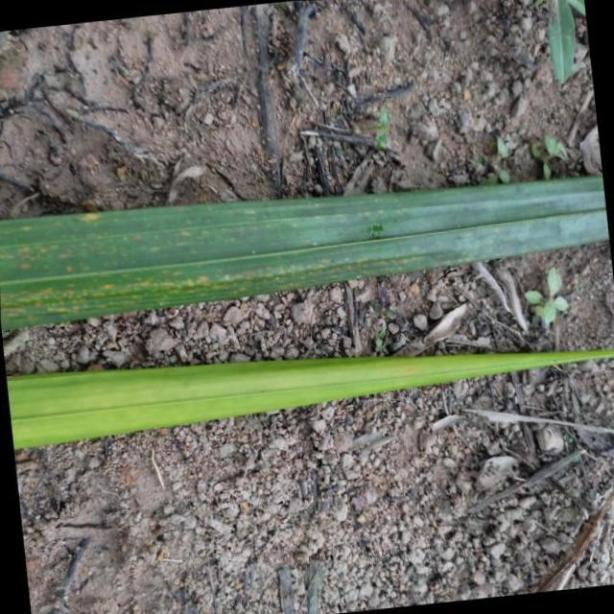nitrogen: (0, 174, 614, 331), (0, 345, 614, 450)
